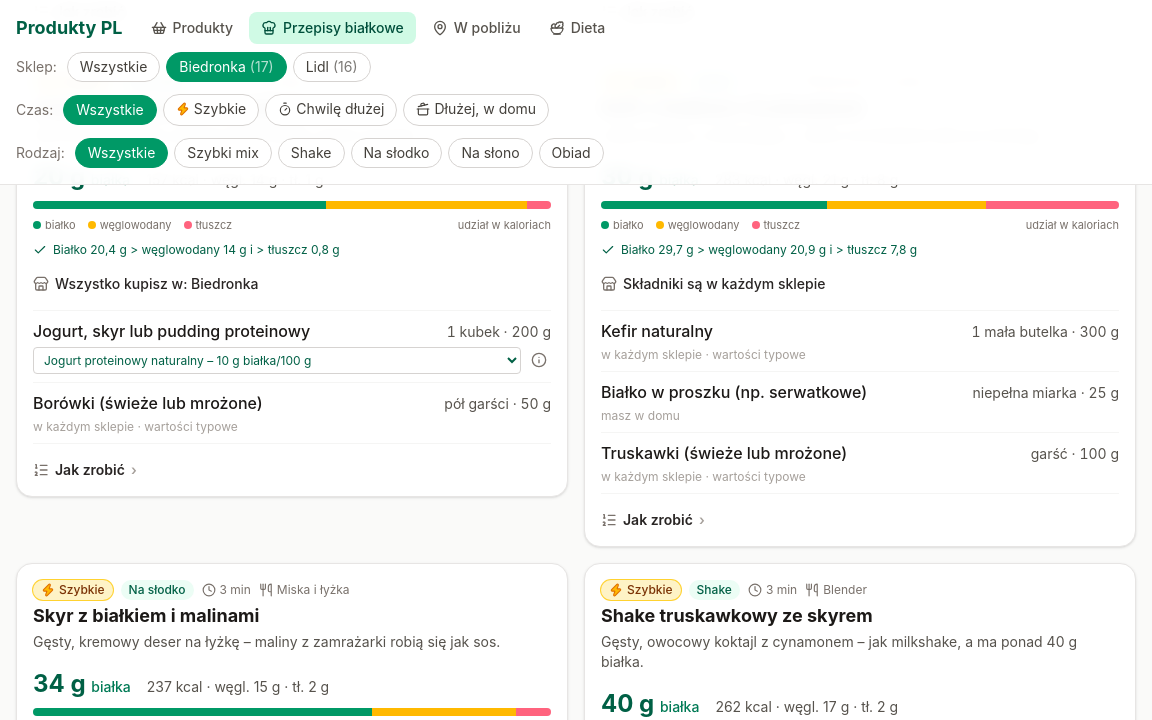
Scenario: Przepisy › swapping to a product that breaks the rule is allowed but flagged
The width and height of the screenshot is (1152, 720).
(page scrolled)
Select "Jogurt proteinowy waniliowy – 8 g białka/100 g" in the dropdown named "Produkt: ". click: (277, 360)
box: [33,346,521,374]
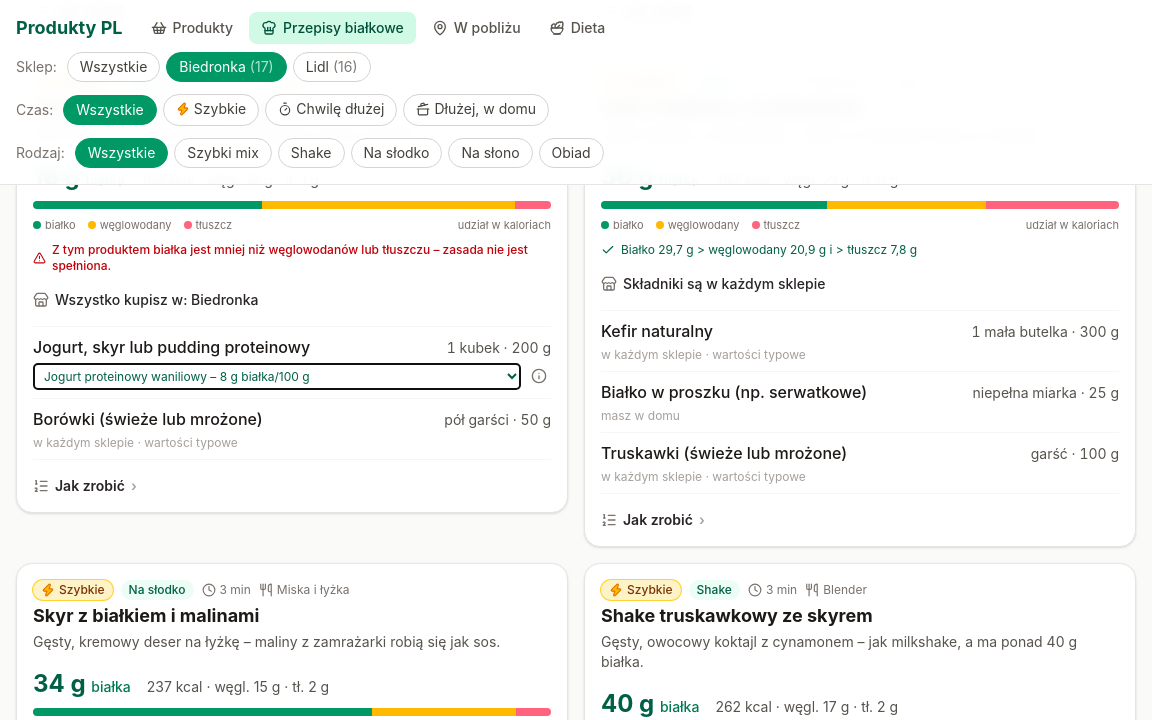
Result: the message shows "zasada nie jest spełniona" at [52,242,528,272]
